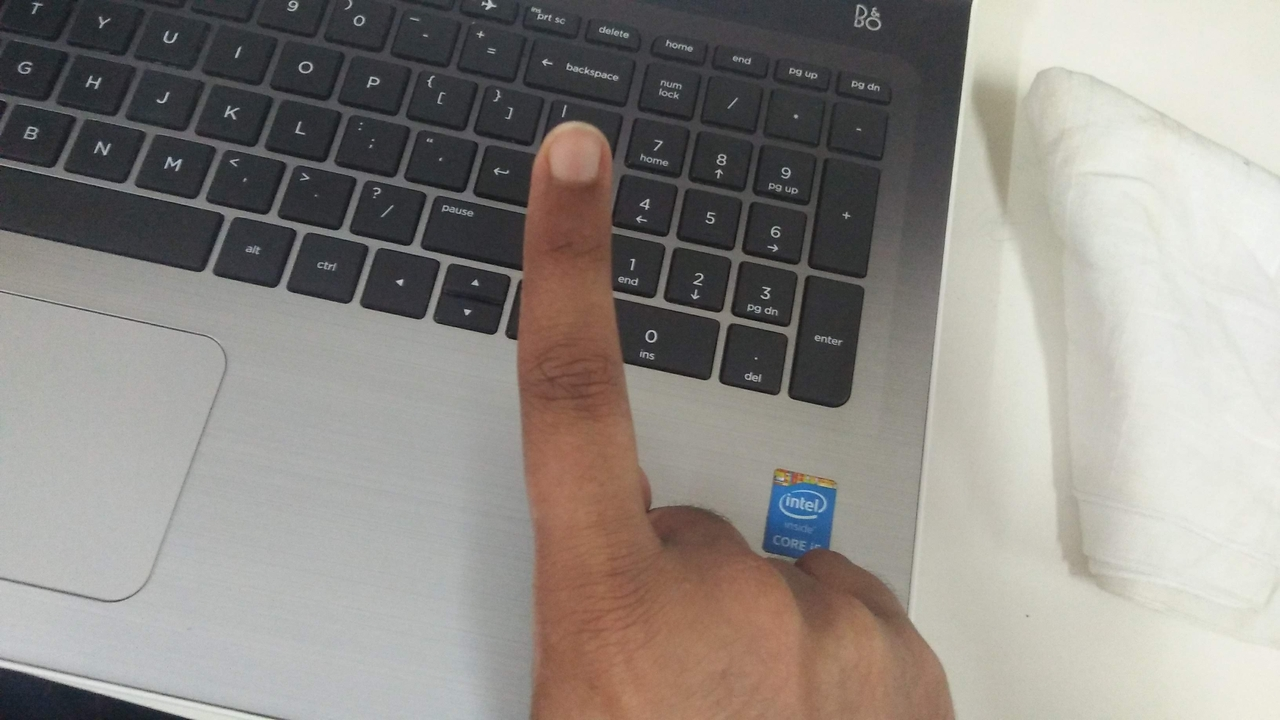fingertip: (518, 128, 618, 202)
